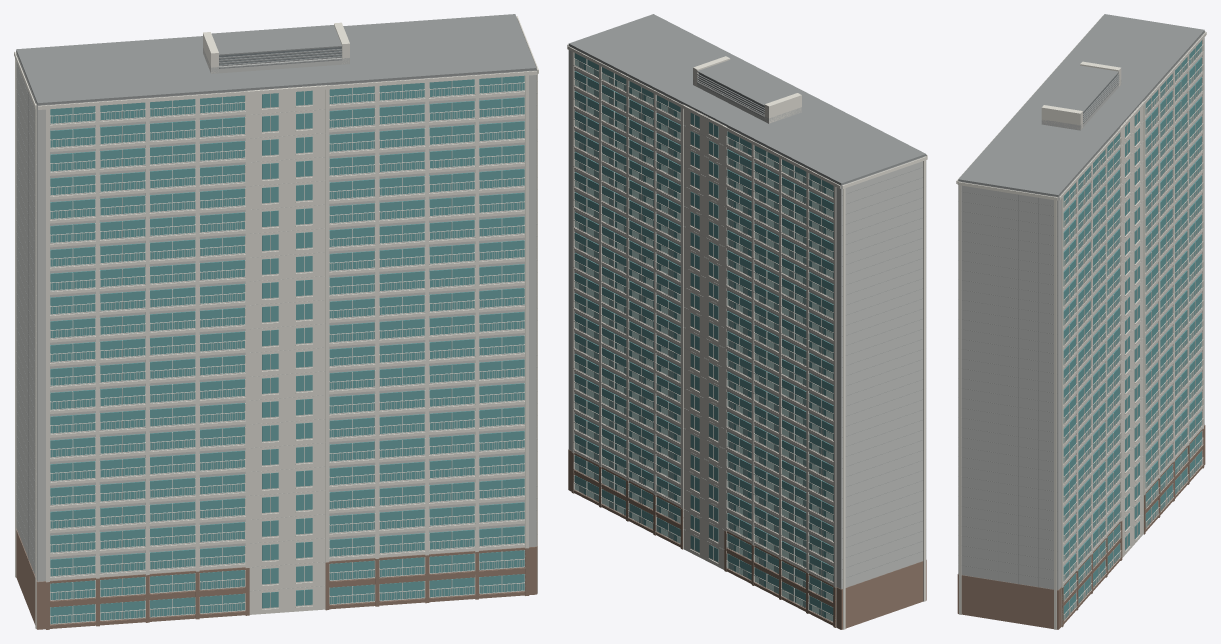
Rendered from bespoke-jamsil-els-161.glb.
3 views of the same model, side by side, from view 1: azimuth 30°, elevation 25°; view 2: azimuth 150°, elevation 25°; view 3: azimuth 270°, elevation 25° (orthographic). The views are drawn at different scales.
Parts seen in each view (by area): view 1: Els161_editable_Els161_turquoise_balcony_glazing, Els161_editable_Els161_light_grey_solid_wall, Els161_white_exact_chunk_4, Els161_white_exact_chunk_5, Els161_white_exact_chunk_2, Els161_editable_Els161_modest_grey_flat_roof_caps, Els161_white_exact_chunk_3, Els161_editable_Els161_muted_ground_wall, Els161_editable_Els161_narrow_charcoal_service_strips; view 2: Els161_editable_Els161_turquoise_balcony_glazing, Els161_editable_Els161_light_grey_solid_wall, Els161_white_exact_chunk_0, Els161_white_exact_chunk_2, Els161_white_exact_chunk_1, Els161_editable_Els161_modest_grey_flat_roof_caps, Els161_editable_Els161_muted_ground_wall, Els161_white_exact_chunk_5; view 3: Els161_editable_Els161_light_grey_solid_wall, Els161_editable_Els161_turquoise_balcony_glazing, Els161_editable_Els161_modest_grey_flat_roof_caps, Els161_white_exact_chunk_0, Els161_white_exact_chunk_1, Els161_white_exact_chunk_2, Els161_editable_Els161_muted_ground_wall, Els161_white_exact_chunk_5.
Part boxes in pixels (x1=…): Els161_editable_Els161_turquoise_balcony_glazing: x1=50, y1=75, x2=524, y2=623; Els161_editable_Els161_light_grey_solid_wall: x1=16, y1=48, x2=536, y2=591; Els161_white_exact_chunk_4: x1=46, y1=86, x2=425, y2=618; Els161_white_exact_chunk_5: x1=38, y1=16, x2=538, y2=609; Els161_white_exact_chunk_2: x1=14, y1=51, x2=326, y2=628; Els161_editable_Els161_modest_grey_flat_roof_caps: x1=16, y1=14, x2=536, y2=575; Els161_white_exact_chunk_3: x1=50, y1=99, x2=245, y2=620; Els161_editable_Els161_muted_ground_wall: x1=16, y1=528, x2=537, y2=629; Els161_editable_Els161_narrow_charcoal_service_strips: x1=219, y1=47, x2=341, y2=64; Els161_editable_Els161_turquoise_balcony_glazing: x1=574, y1=53, x2=833, y2=621; Els161_editable_Els161_light_grey_solid_wall: x1=568, y1=46, x2=926, y2=589; Els161_white_exact_chunk_0: x1=573, y1=52, x2=726, y2=569; Els161_white_exact_chunk_2: x1=567, y1=46, x2=927, y2=629; Els161_white_exact_chunk_1: x1=571, y1=48, x2=778, y2=594; Els161_editable_Els161_modest_grey_flat_roof_caps: x1=568, y1=14, x2=926, y2=585; Els161_editable_Els161_muted_ground_wall: x1=568, y1=449, x2=926, y2=629; Els161_white_exact_chunk_5: x1=567, y1=44, x2=927, y2=156; Els161_editable_Els161_light_grey_solid_wall: x1=958, y1=32, x2=1204, y2=590; Els161_editable_Els161_turquoise_balcony_glazing: x1=1063, y1=40, x2=1201, y2=619; Els161_editable_Els161_modest_grey_flat_roof_caps: x1=958, y1=14, x2=1204, y2=589; Els161_white_exact_chunk_0: x1=1063, y1=101, x2=1143, y2=621; Els161_white_exact_chunk_1: x1=1061, y1=89, x2=1173, y2=626; Els161_white_exact_chunk_2: x1=1059, y1=31, x2=1206, y2=534; Els161_editable_Els161_muted_ground_wall: x1=957, y1=425, x2=1205, y2=629; Els161_white_exact_chunk_5: x1=956, y1=16, x2=1121, y2=629.
Bounding box in the file's own units: 52.02 × 59.95 × 30.11.
